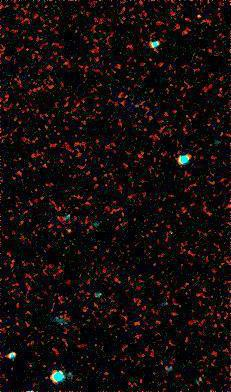star: (55, 216, 85, 246)
